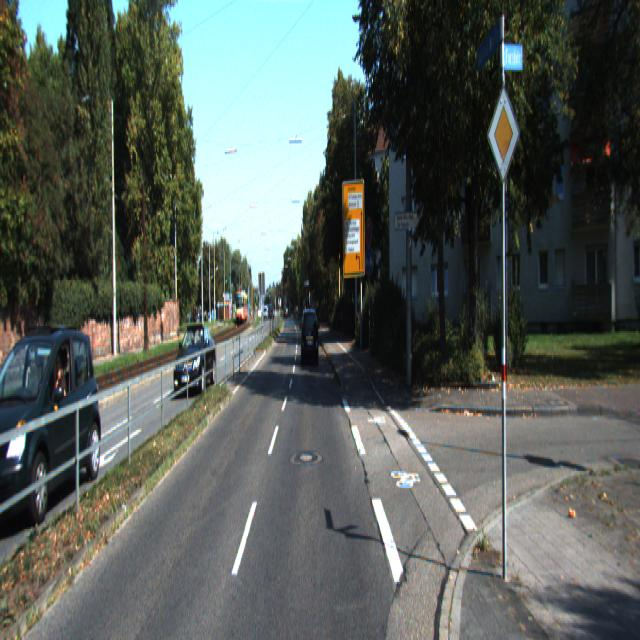Car: (0, 322, 103, 535), (173, 323, 217, 398), (302, 308, 320, 368)
DontCare: (232, 278, 292, 326)
